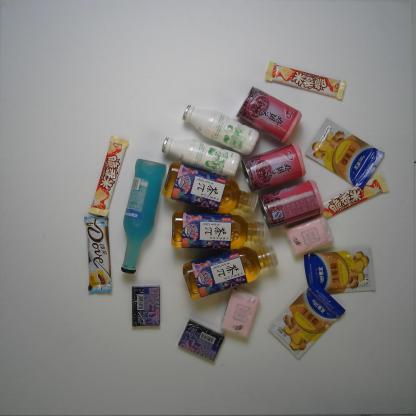Alcohol: (119, 156, 168, 275)
Canned Food: (233, 85, 304, 144), (256, 177, 327, 231), (240, 139, 308, 192)
Chocolate: (87, 136, 134, 218), (262, 60, 350, 102), (319, 171, 389, 221), (82, 214, 113, 297)
Drink: (180, 242, 280, 300), (160, 160, 260, 217), (168, 207, 270, 254)
Gum: (174, 317, 229, 364), (128, 284, 162, 329)
Milk: (179, 103, 262, 158), (160, 134, 243, 182)
Seasoner: (266, 280, 347, 361), (302, 116, 387, 192), (303, 243, 378, 295)
Tissue: (283, 212, 336, 258), (219, 286, 262, 340)
